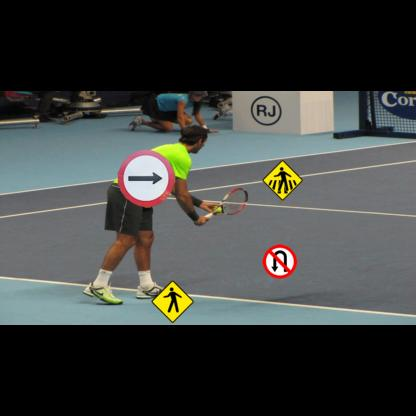A-32a: (151, 280, 194, 323)
A-32b: (262, 160, 303, 201)
R-24a: (118, 149, 175, 207)
R-5a: (263, 244, 297, 278)
